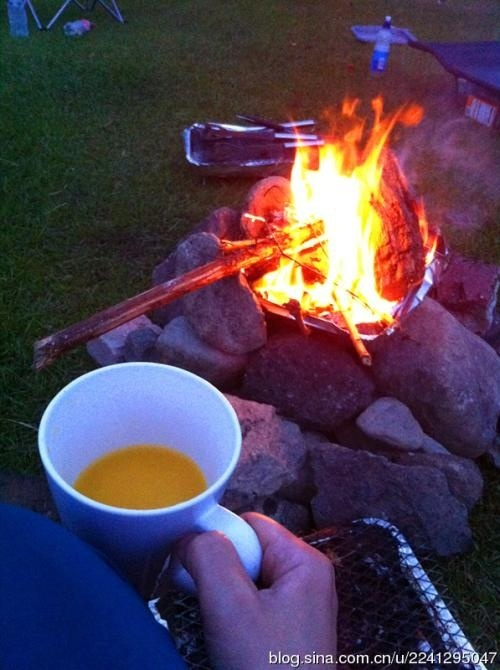fire: (244, 94, 423, 329)
